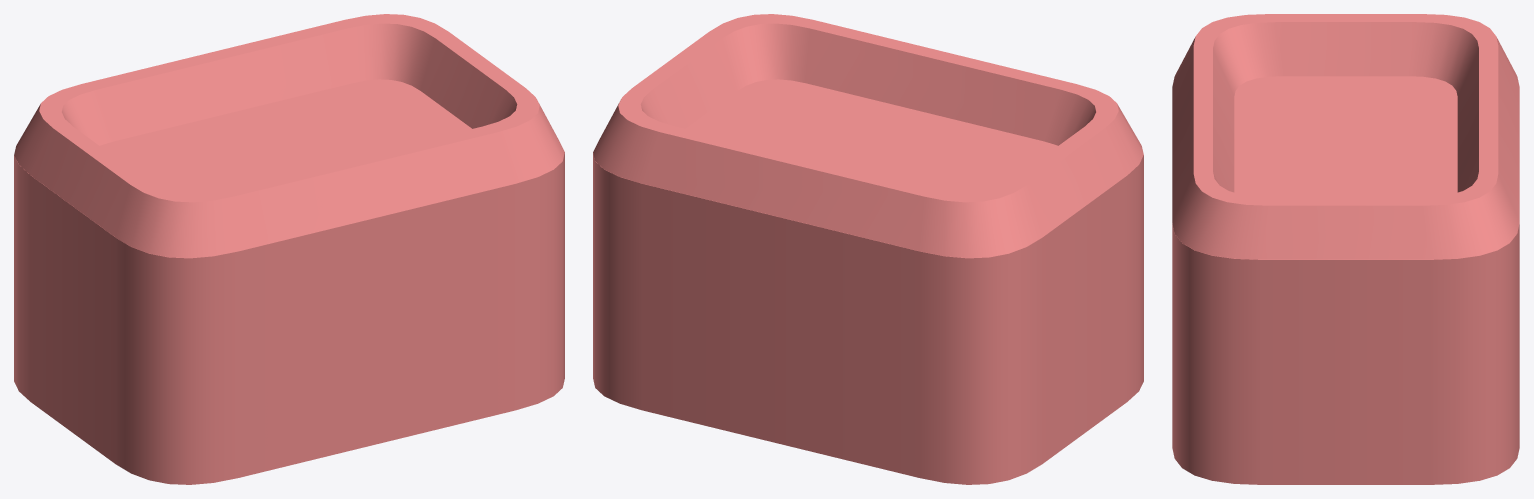
Rendered from Light_QianDeng3_1X1_off.FBX.
The picture shows the model from 3 angles, left to right: view 1: azimuth 30°, elevation 25°; view 2: azimuth 150°, elevation 25°; view 3: azimuth 270°, elevation 25°; orthographic projection.
Visible parts, largest first — view 1: Box002; view 2: Box002; view 3: Box002.
Part boxes in pixels (left/top/right/bottom): Box002: left=14, top=14, right=564, bottom=484; Box002: left=593, top=14, right=1143, bottom=484; Box002: left=1172, top=14, right=1519, bottom=484.
Bounding box in the file's own units: 1 × 0.6003 × 0.7.
